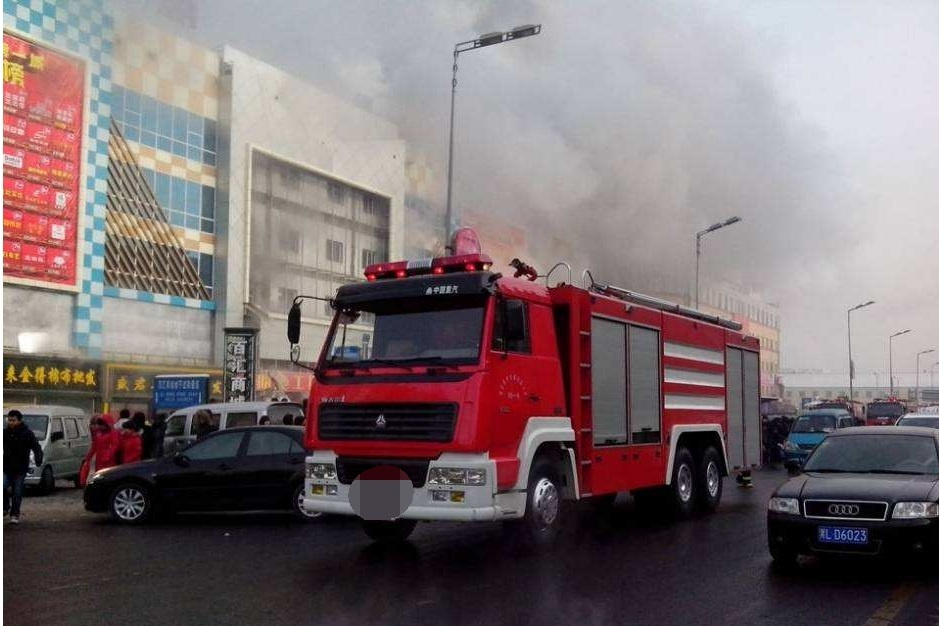fire engine: (295, 237, 770, 552)
